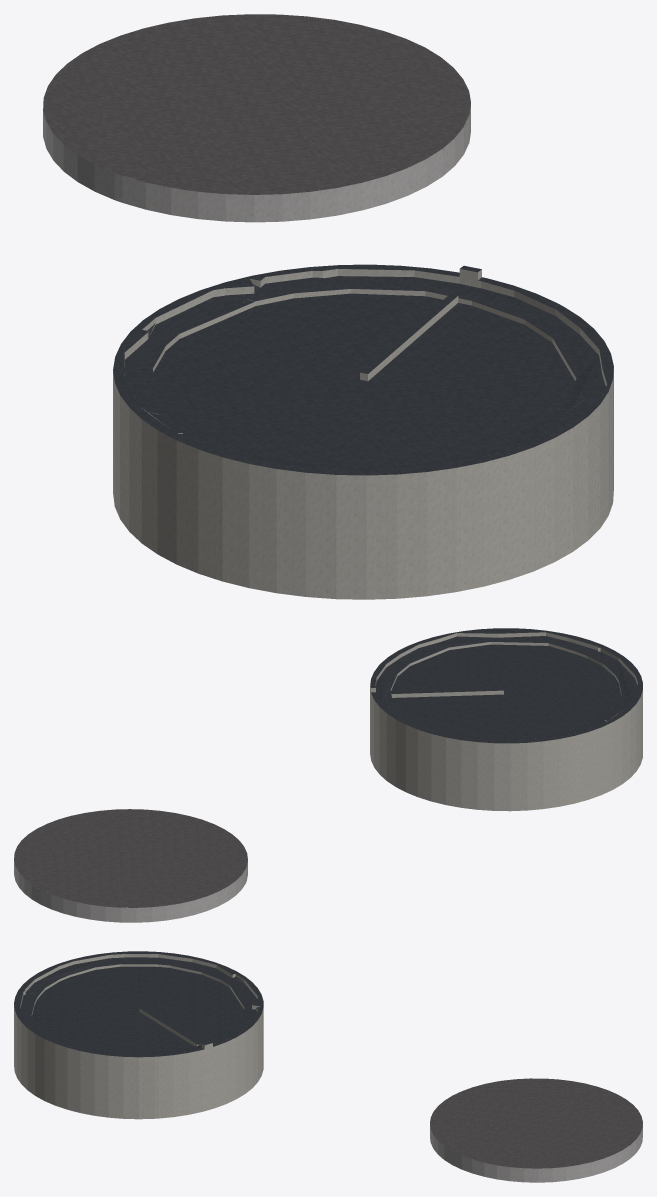
3 views of the same model, one above another, from view 1: azimuth 30°, elevation 25°; view 2: azimuth 150°, elevation 25°; view 3: azimuth 270°, elevation 25° (orthographic). The views are drawn at different scales.
Visible parts, largest first — view 1: bldg_6000064175_roof, bldg_6000064175, bldg_6000064177_roof, bldg_6000064177; view 2: bldg_6000064175_roof, bldg_6000064175, bldg_6000064177_roof, bldg_6000064177; view 3: bldg_6000064175_roof, bldg_6000064175, bldg_6000064177_roof, bldg_6000064177.
Boxes of the visible parts, <box> form: bldg_6000064175_roof: <box>113,264,613,475</box>; bldg_6000064175: <box>113,264,613,599</box>; bldg_6000064177_roof: <box>43,14,470,194</box>; bldg_6000064177: <box>43,14,470,222</box>; bldg_6000064175_roof: <box>370,628,642,743</box>; bldg_6000064175: <box>370,632,642,811</box>; bldg_6000064177_roof: <box>14,809,247,907</box>; bldg_6000064177: <box>14,860,247,922</box>; bldg_6000064175_roof: <box>14,951,263,1057</box>; bldg_6000064175: <box>14,954,263,1119</box>; bldg_6000064177_roof: <box>430,1078,642,1168</box>; bldg_6000064177: <box>430,1078,642,1182</box>.
Bounding box in the file's own units: 84.99 × 15.47 × 133.
Materials: 4 (4 with a texture image).
